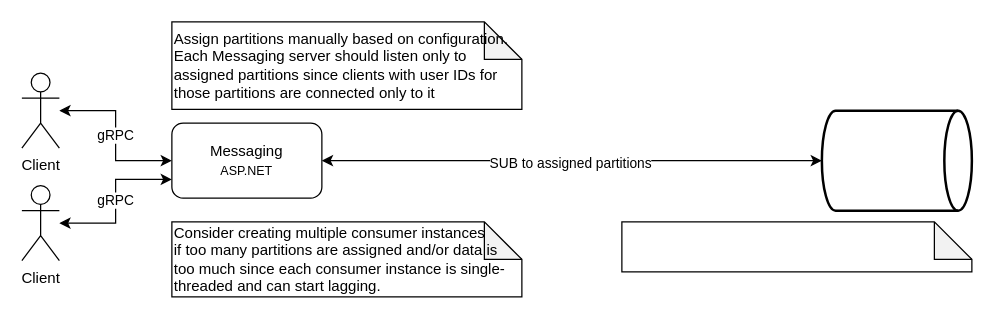
Some shapes in this 995 by 319 pixel diagram are drawn without their labels. Here are the shapes that lost their labels. From the top down, the box of each, then its label:
(820, 109, 972, 211): PUB/SUB Kafka cluster
(621, 221, 972, 272): Set "messages" topic replication factor to 4 or 8 to minimize data losses.
